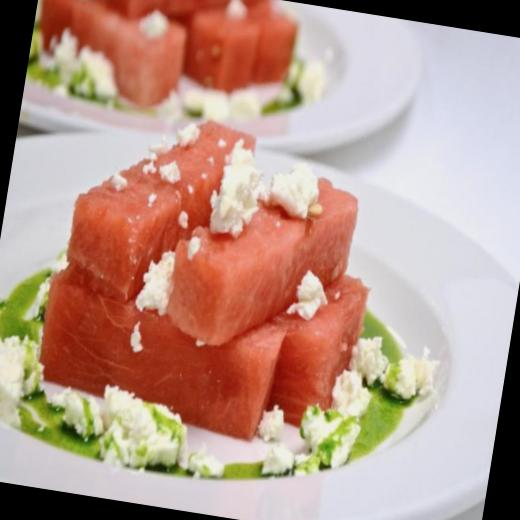Cherry: (32, 103, 392, 456), (27, 0, 299, 129)
